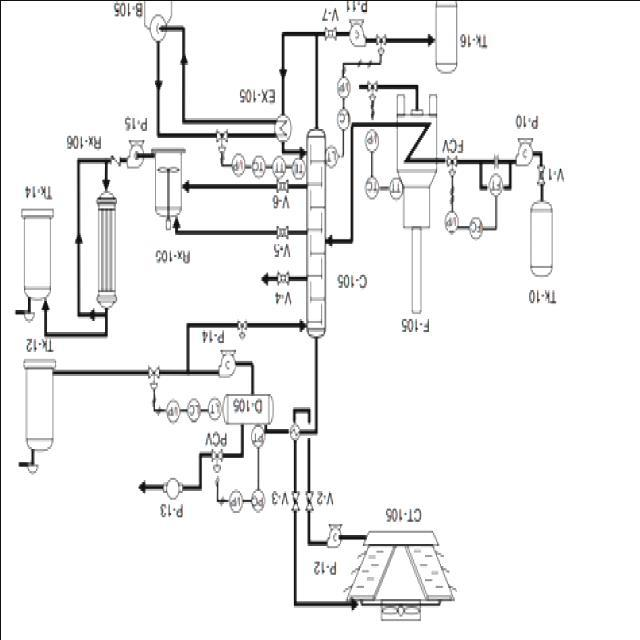Ball Valve: (274, 268, 294, 291), (272, 176, 290, 196), (274, 226, 288, 242)
Centrifugal Pump: (322, 516, 348, 554), (510, 134, 534, 172), (212, 348, 238, 381), (124, 135, 145, 174), (346, 16, 368, 50)
Check Valve: (108, 152, 120, 172)
Gate Valve: (532, 161, 550, 193), (288, 488, 302, 526), (301, 486, 315, 512)
Orifice: (488, 152, 500, 174)
PRV: (12, 295, 37, 329)
Pneumatic-Diaphragm Gate Valve: (362, 74, 382, 108), (444, 151, 464, 182), (233, 312, 250, 346), (212, 125, 232, 153), (146, 364, 162, 396), (374, 32, 390, 62), (210, 446, 227, 474)
